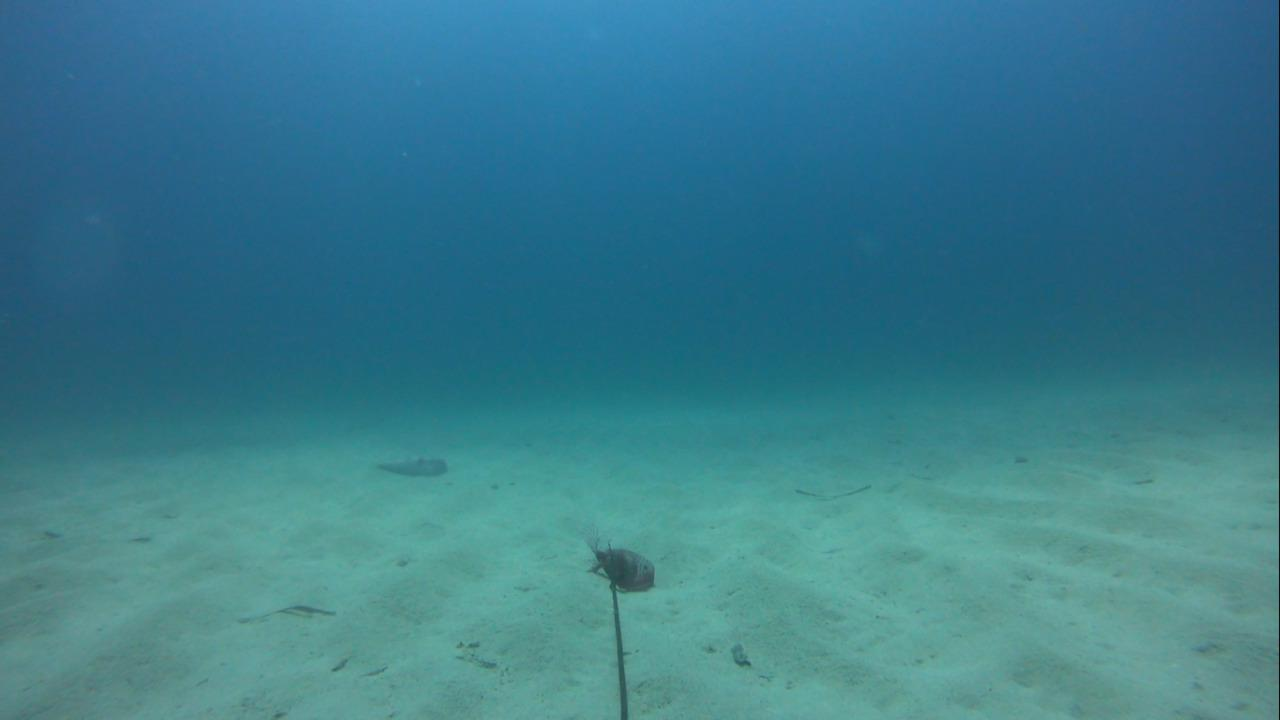raor: (371, 454, 450, 476)
